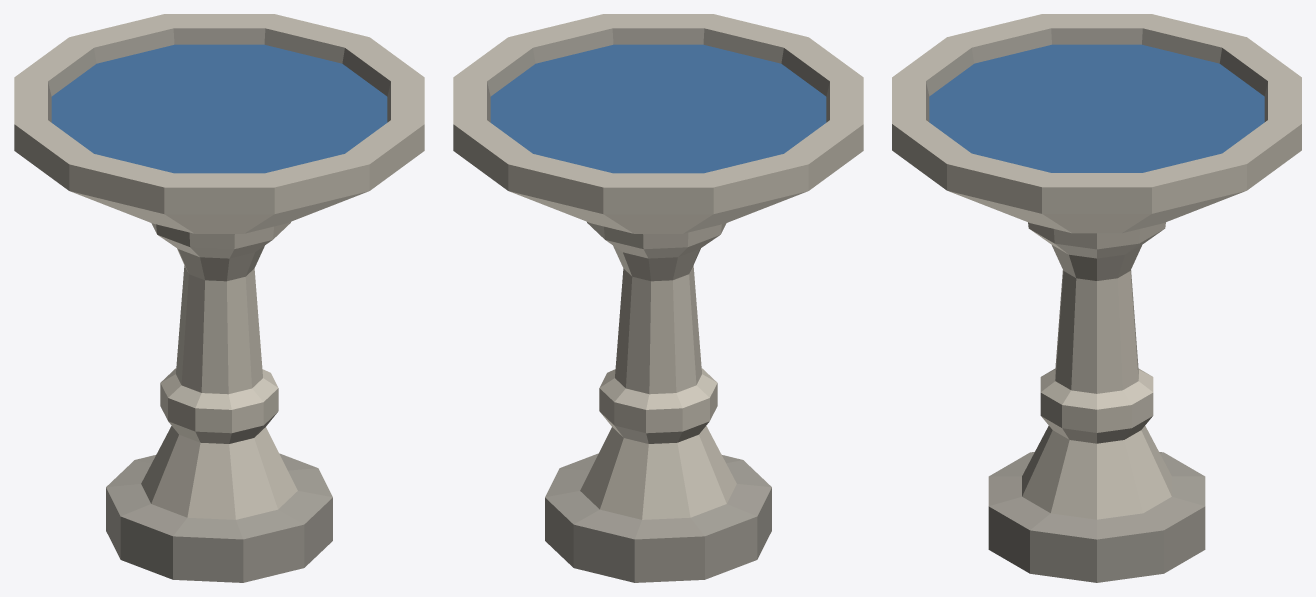
Rendered from FMS_Garden_Birdbath.fbx.
3 renders of one model, left to right at view 1: azimuth 30°, elevation 25°; view 2: azimuth 150°, elevation 25°; view 3: azimuth 270°, elevation 25°, orthographic.
Visible parts, largest first — view 1: FMS_Garden_Birdbath_Body; view 2: FMS_Garden_Birdbath_Body; view 3: FMS_Garden_Birdbath_Body.
Part boxes in pixels (<box>): FMS_Garden_Birdbath_Body: <box>14,14,424,582</box>; FMS_Garden_Birdbath_Body: <box>453,14,863,582</box>; FMS_Garden_Birdbath_Body: <box>892,14,1301,582</box>.
Size of the model in its own units: 0.5989 by 0.7 by 0.5989.
1 material, 1 textured.
